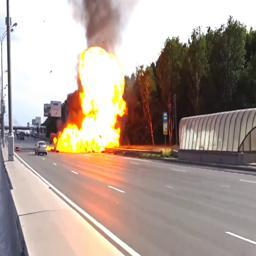fire: (54, 46, 128, 155)
